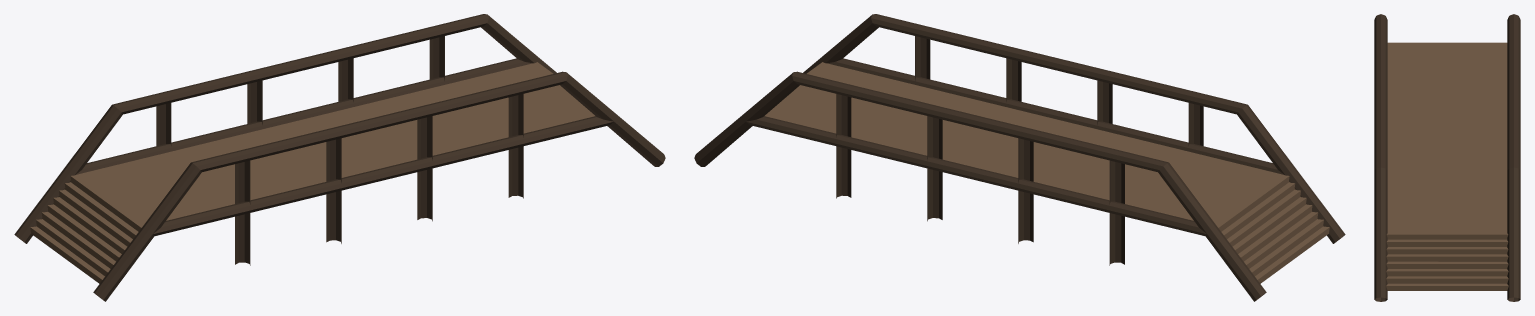
Rendered from bridge.fbx.
3 renders of one model, left to right at view 1: azimuth 30°, elevation 25°; view 2: azimuth 150°, elevation 25°; view 3: azimuth 270°, elevation 25°, orthographic. The views are drawn at different scales.
Parts seen in each view (by area): view 1: bridge; view 2: bridge; view 3: bridge.
Boxes of the visible parts, x1,y1,x2,y2 form: bridge: (14,14,665,301); bridge: (694,14,1345,301); bridge: (1374,14,1520,301).
Bounding box in the file's own units: 1250 × 244 × 330.
1 material, 1 textured.
